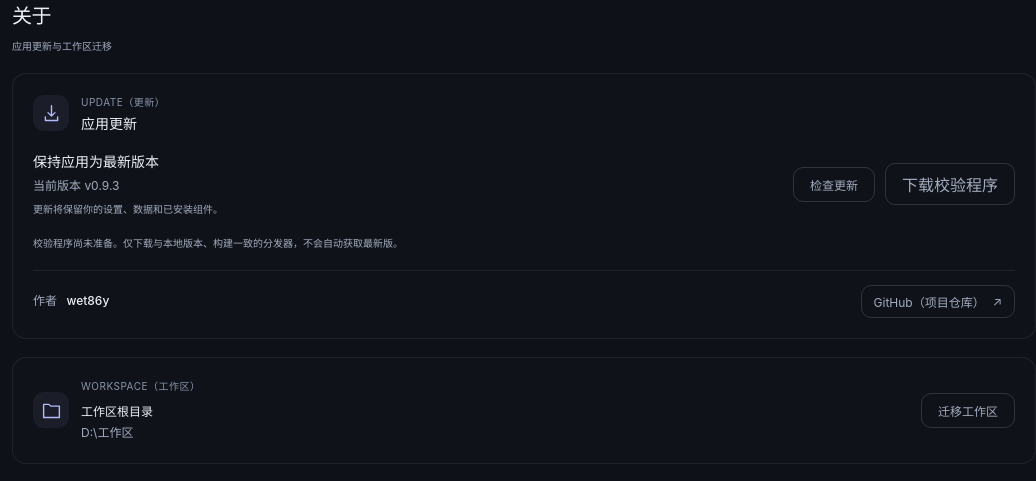
Test: WorkspaceSettings（关于页面） › 目录选择尚未结束时锁定迁移按钮，避免重复打开选择器
The width and height of the screenshot is (1036, 481).
Click the button with class "workspace-migrate-action" at coordinates (968, 410), box [921,393,1015,428]
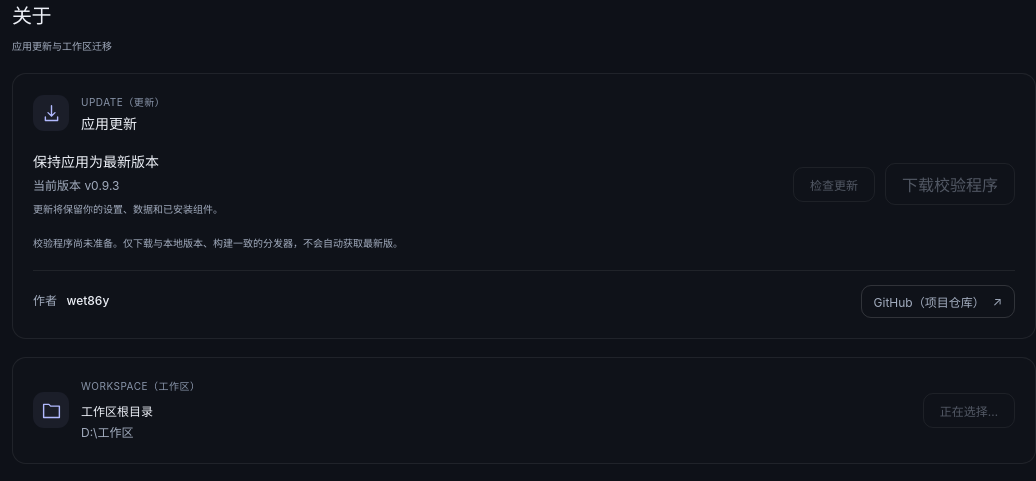
Now the button with class "workspace-migrate-action" reads "正在选择…"
Now the button with class "workspace-migrate-action" is disabled
Click the button with class "workspace-migrate-action" at coordinates (969, 410), box [923,393,1015,428]
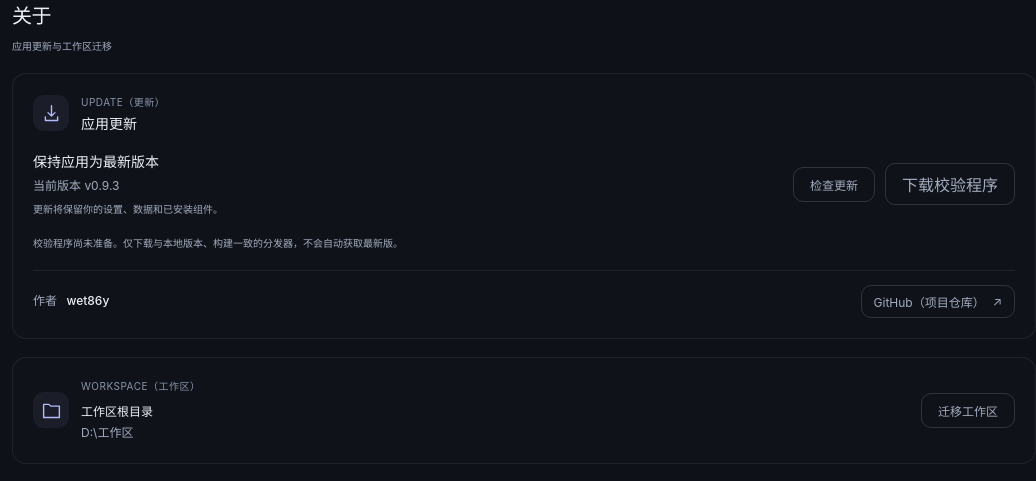
Now the button with class "workspace-migrate-action" reads "迁移工作区", box [921,393,1015,428]
Now the button with class "workspace-migrate-action" is enabled, box [921,393,1015,428]
